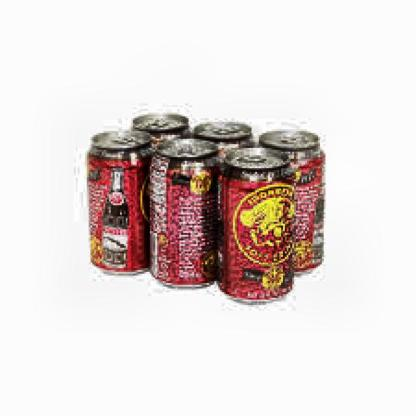Can: (218, 143, 298, 306), (149, 139, 221, 293), (84, 127, 158, 274), (256, 128, 328, 272), (128, 107, 190, 152), (192, 118, 254, 156)
